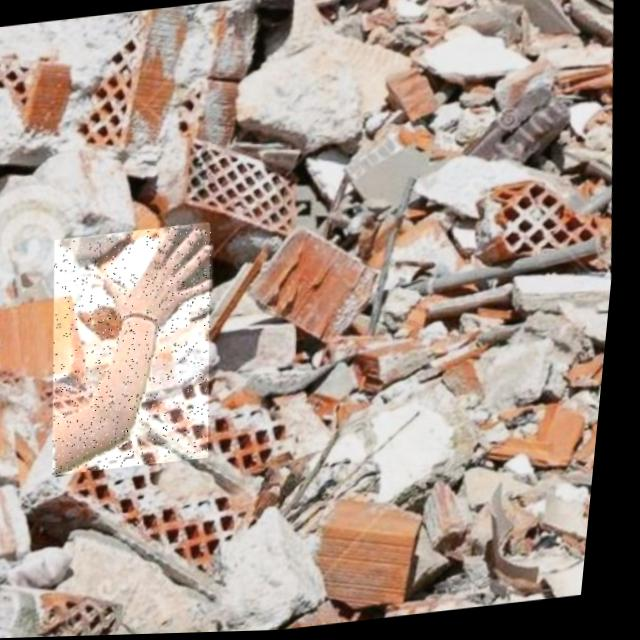Person in Rubble: (42, 222, 237, 476)
